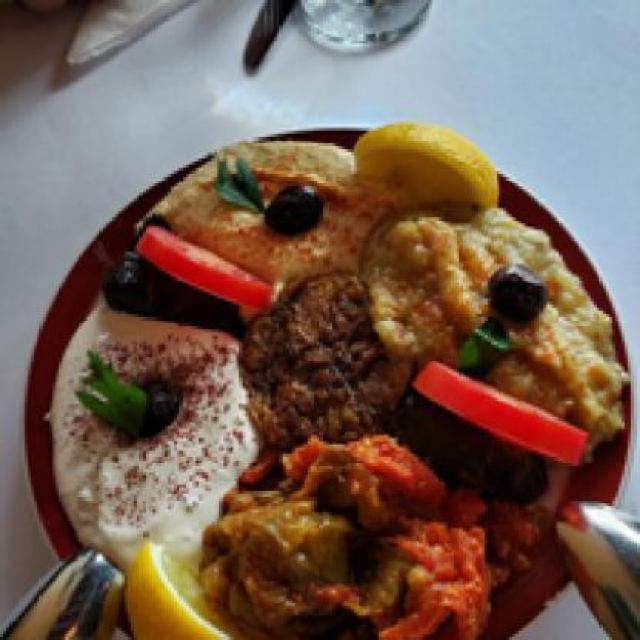eggplant: (217, 445, 481, 637)
hummus: (158, 131, 370, 280)
